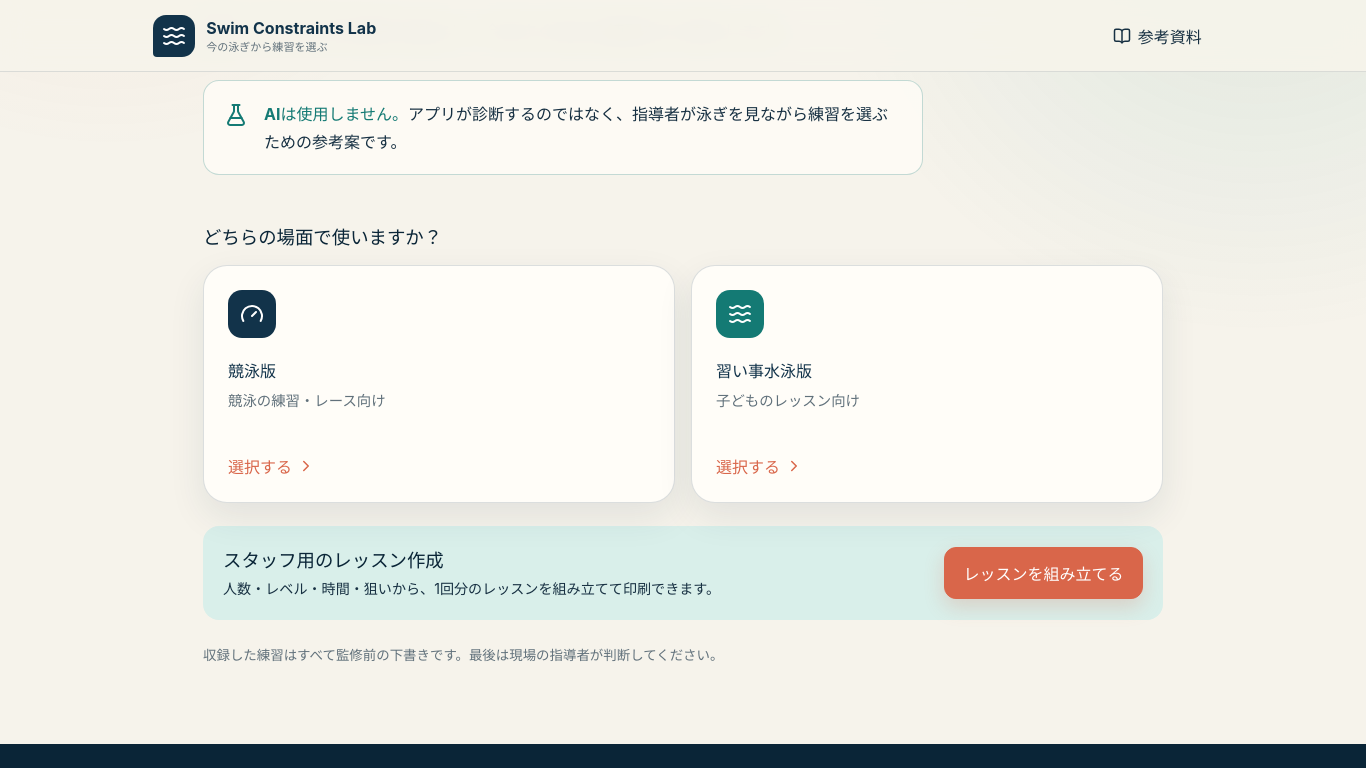
Test: Swim Constraints Lab SPA flow › 必須条件不足ではエラーを示し、最初の必須入力へフォーカスする
(page scrolled)
Step 1. Click the button "競泳版 競泳の練習・レース向け 選択する" → (252, 314), box [203, 265, 675, 503]
(page scrolled)
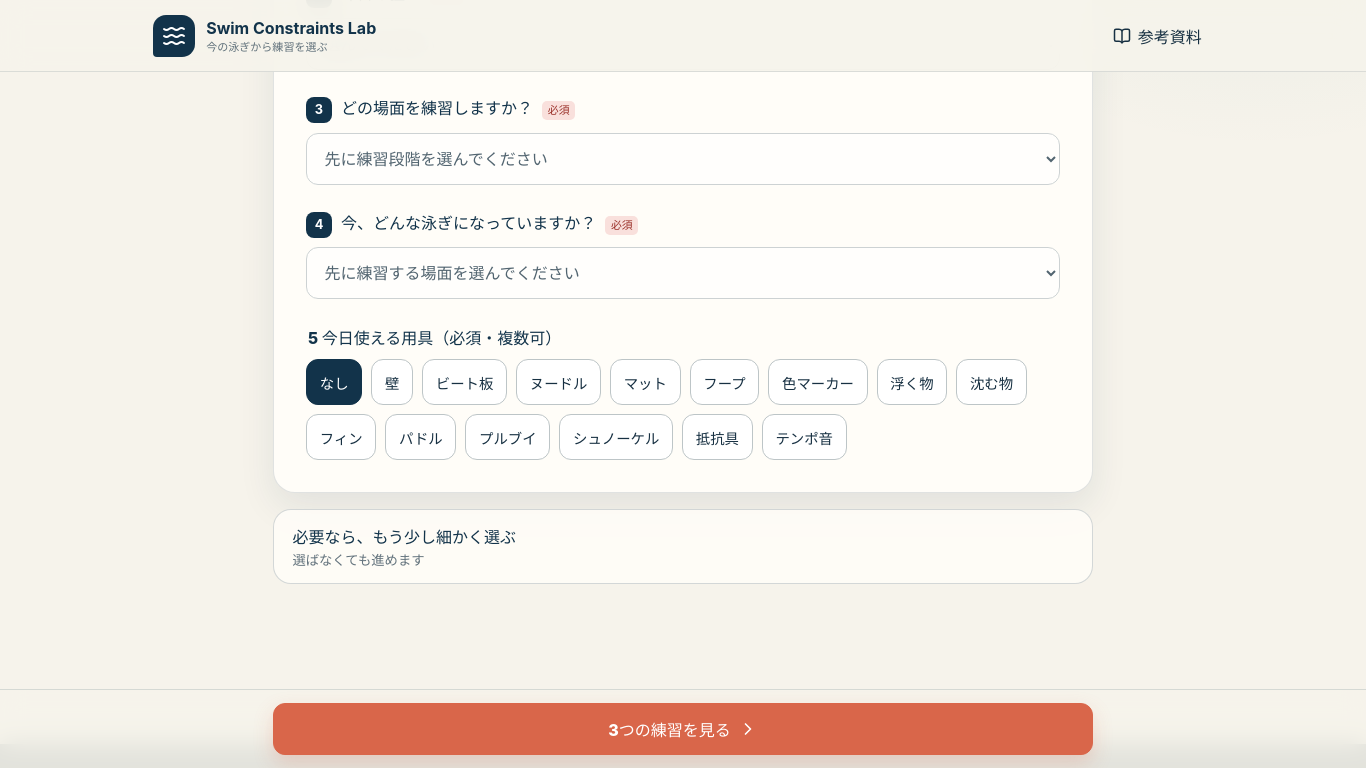
Step 2. Click the button "3つの練習を見る" → (683, 729), box [273, 703, 1093, 755]
(page scrolled)
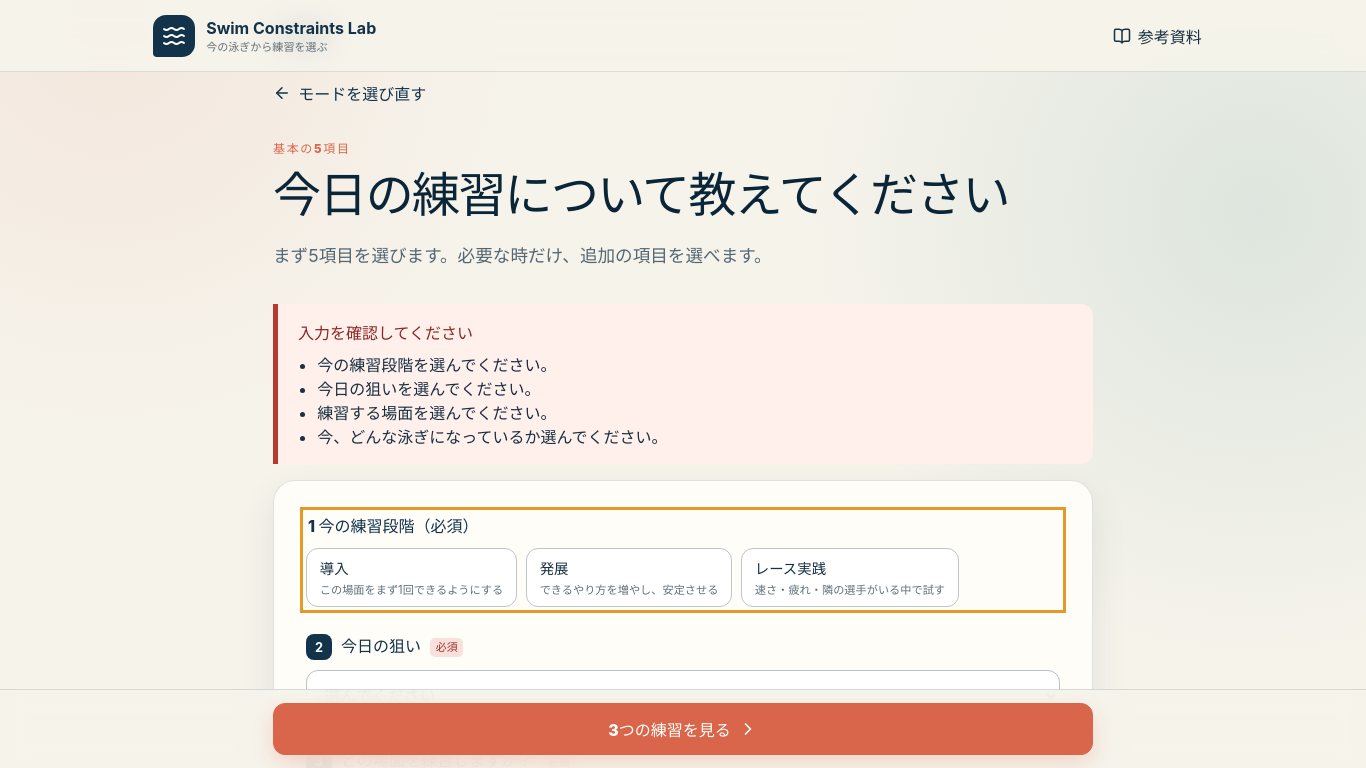
Now the message shows "今日の狙いを選んでください。", box [317, 379, 540, 399]
